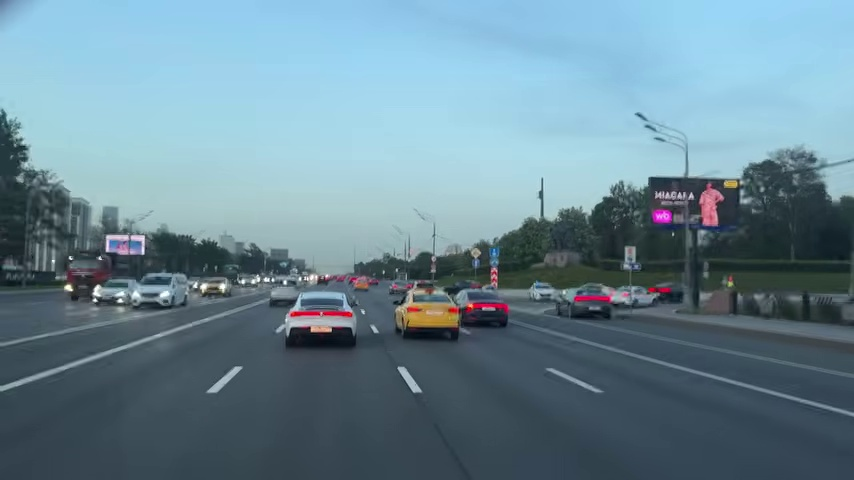apagada: (632, 115, 665, 146), (631, 110, 657, 134)
